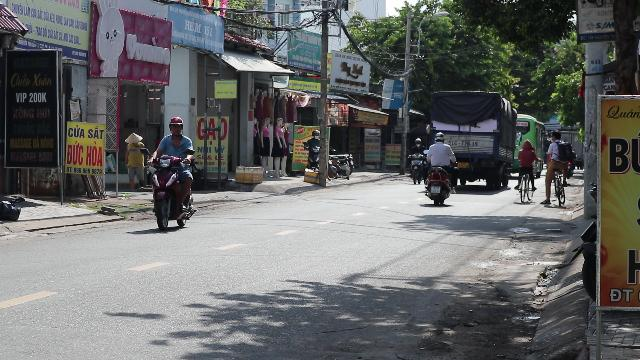helmet: (168, 116, 184, 136)
motorcyclist: (144, 115, 200, 232)
